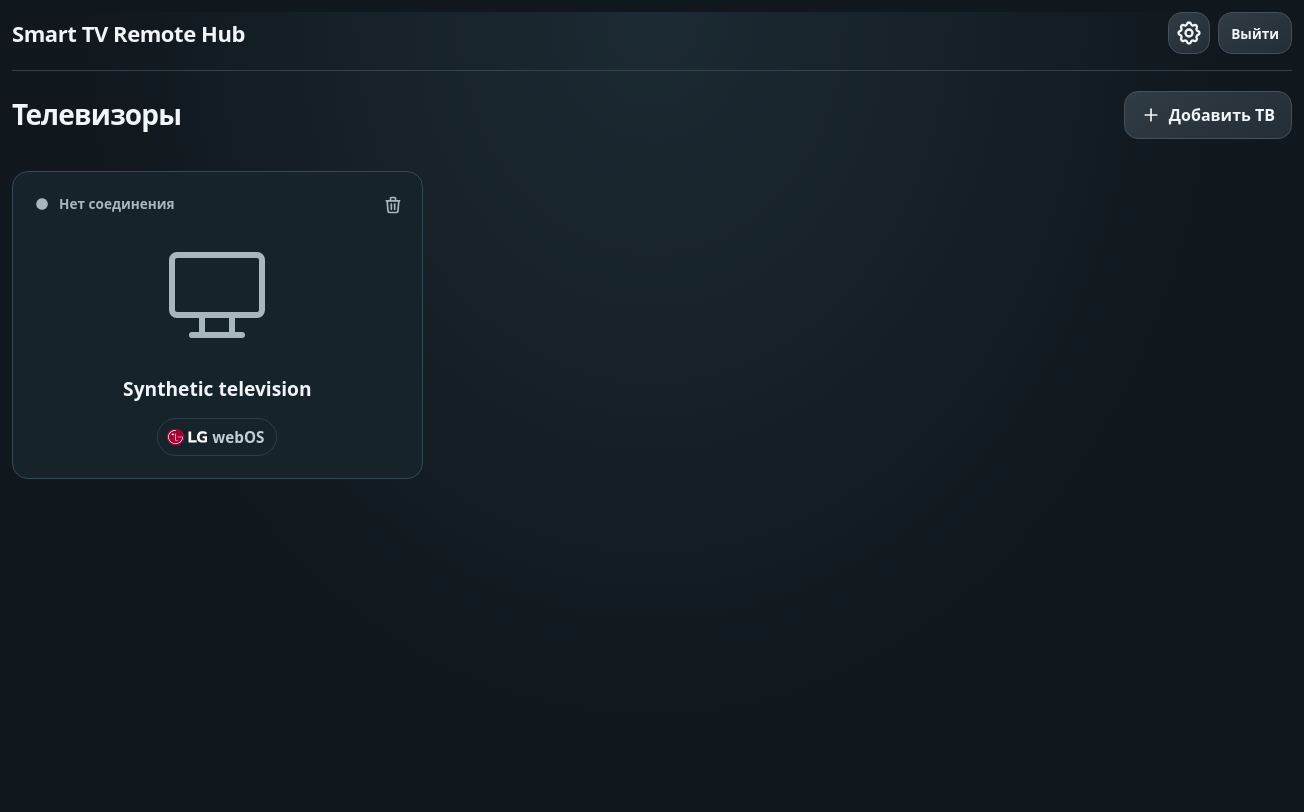
adding is available with an empty or populated list
Step 1. Click the button "Добавить ТВ" → (1208, 115), box [1124,91,1292,139]
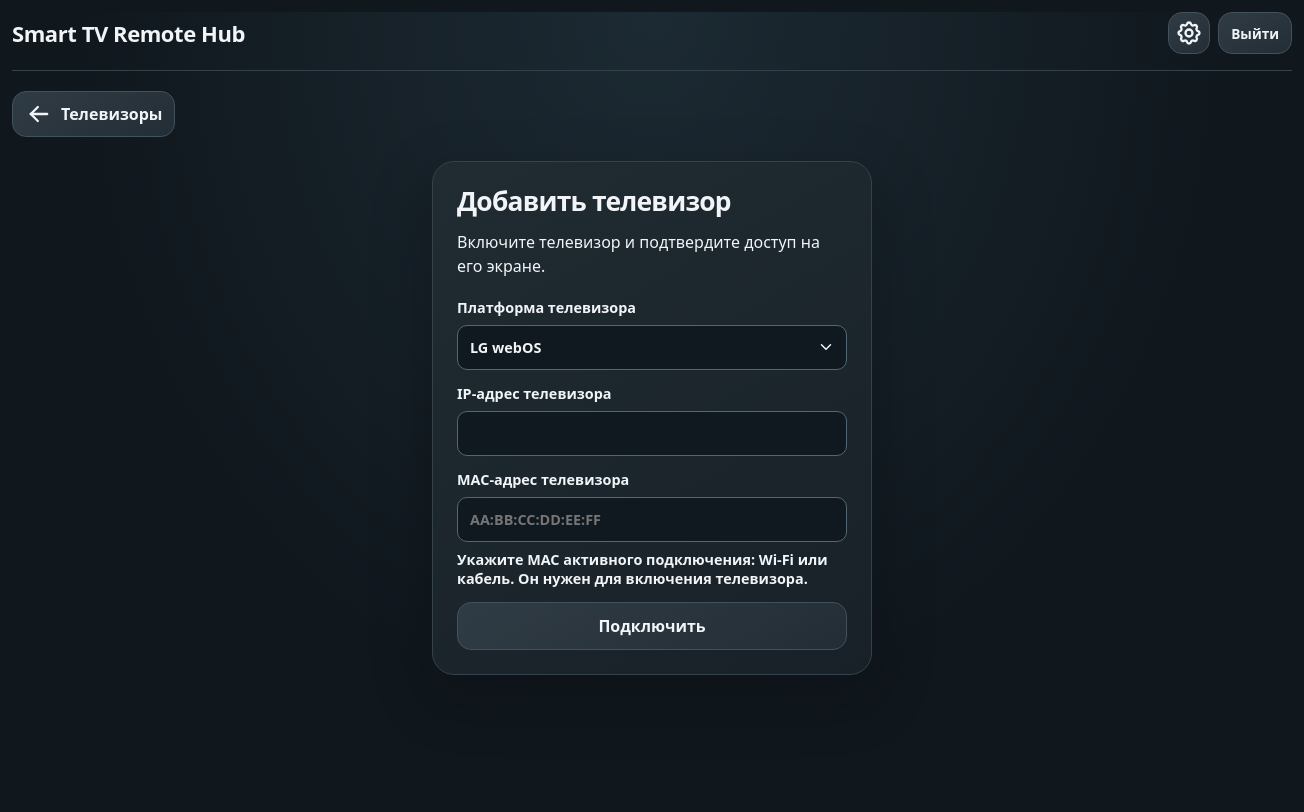
Now the field labelled "IP-адрес телевизора" is shown, box [457,411,847,456]
